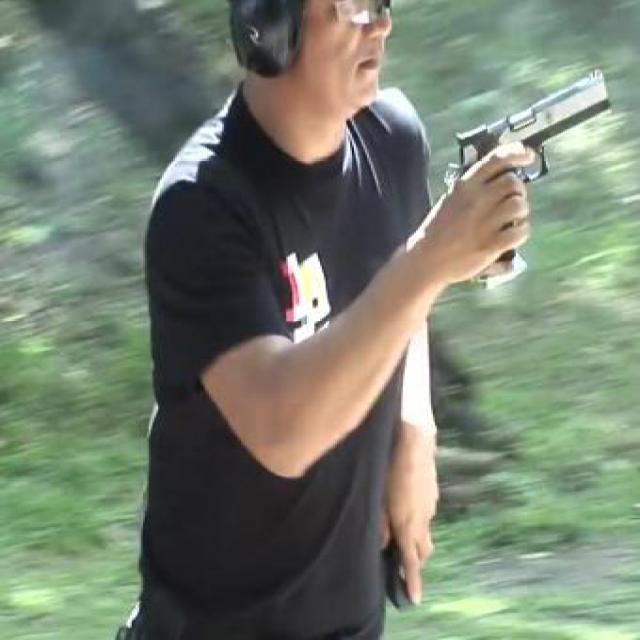gun: (450, 62, 616, 285)
